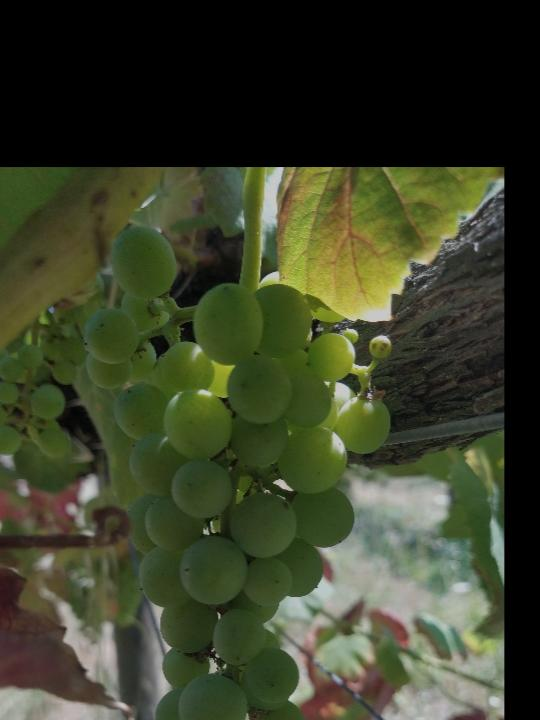grape: (73, 224, 392, 720)
